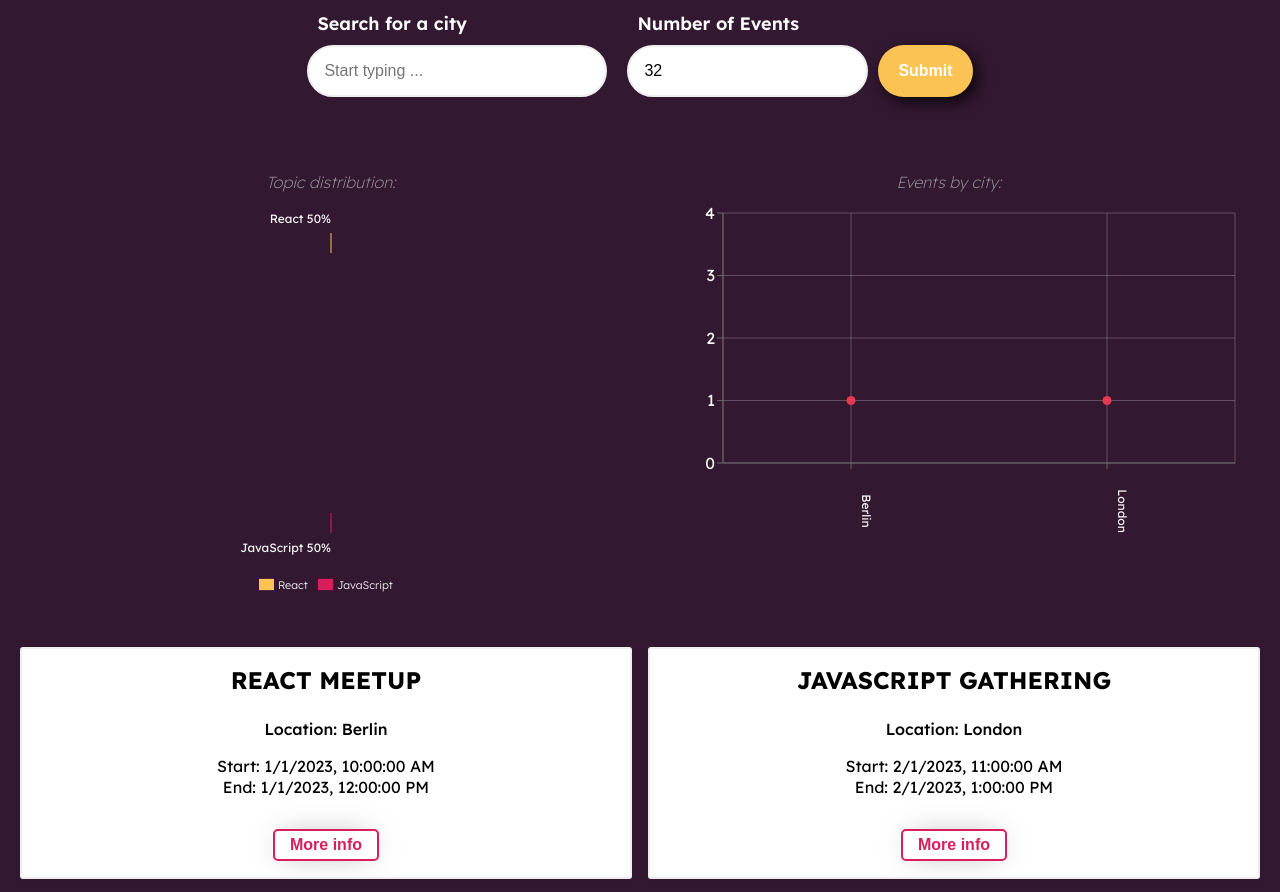
App Alert Integration Tests › shows ErrorAlert if user enters a number larger than 500
Replace the text in the field labelled "Number of Events" with "600" at (748, 71), box [627,45,868,97]
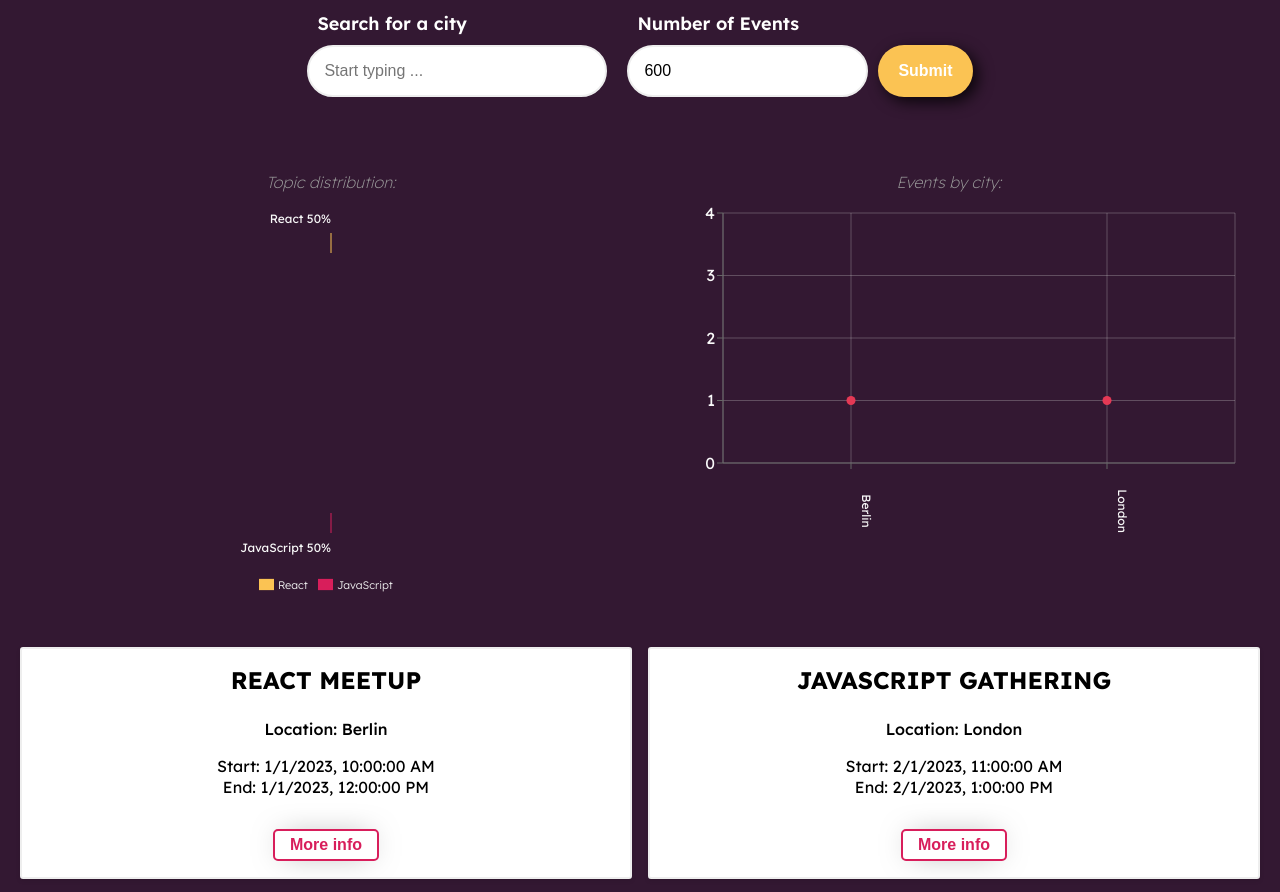
Click the button with aria-label "number of events" at (926, 71), box [878,45,973,97]
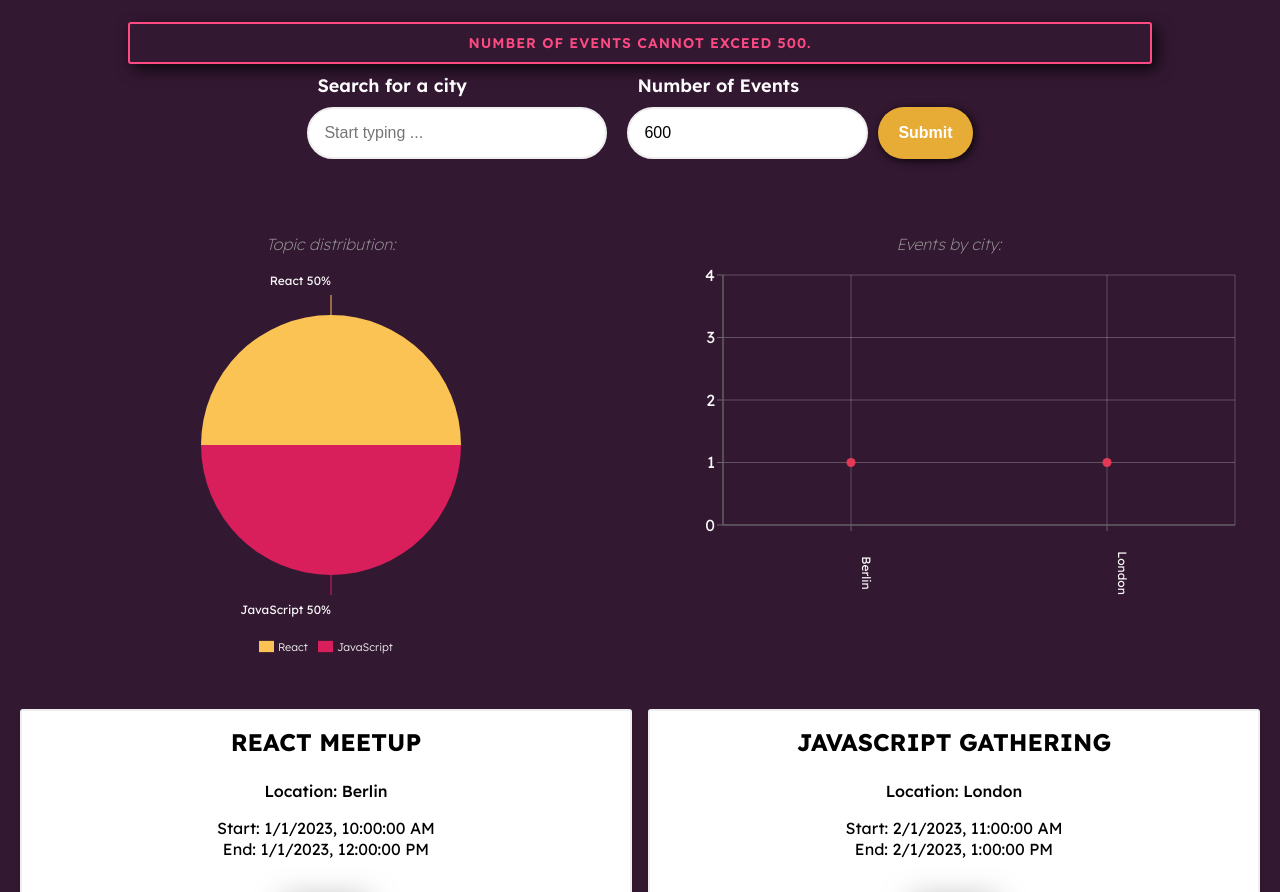
Check: the text "Number of events cannot exceed 500." is shown, box [128,22,1152,64]
